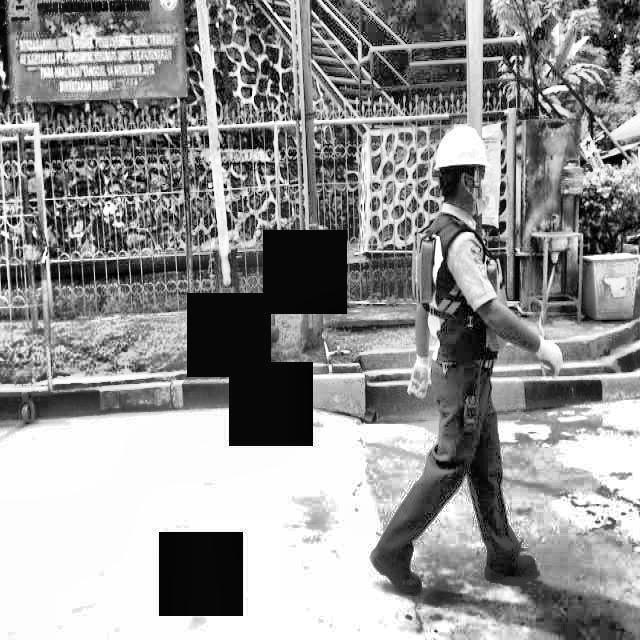safety_helmet: (435, 122, 492, 179)
safety_jacket: (410, 213, 511, 361)
